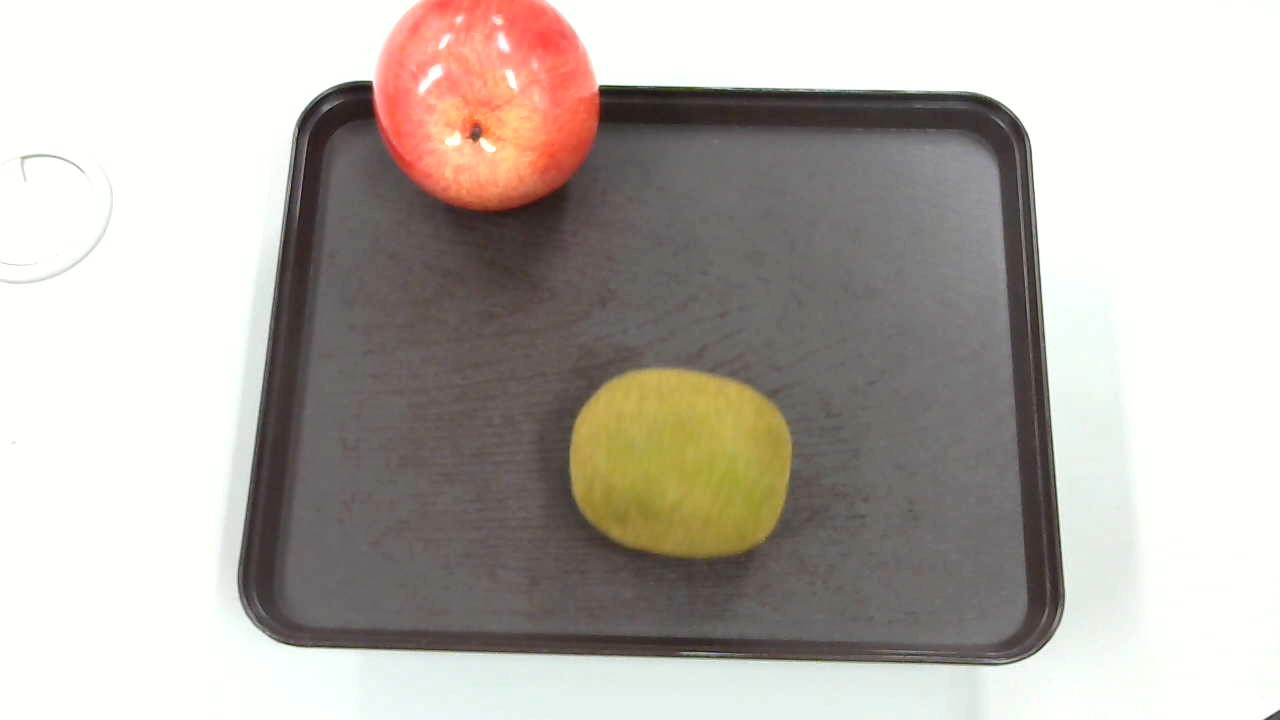kiwi fruit: (563, 361, 796, 563)
red apple: (373, 3, 610, 217)
